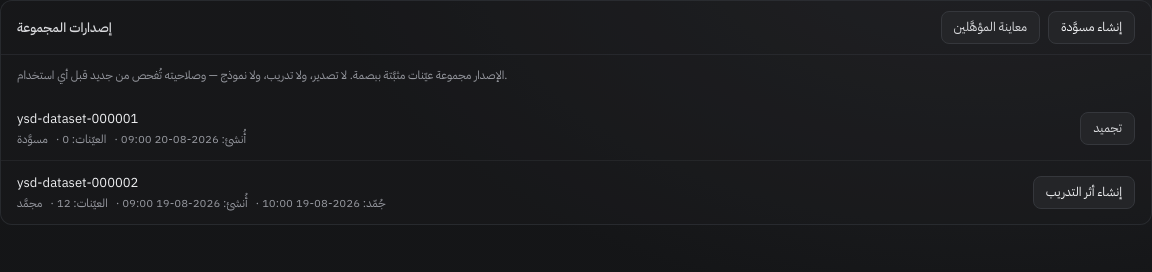
Test: ★ (٢) المعاينة — أعدادٌ وأسبابٌ مجمَّعة › ★ ★ تعرض المؤهَّل والمستبعَد بسببه
Click the button "معاينة المؤهَّلين" at (990, 27), box top-left (940, 11), bottom-right (1040, 44)
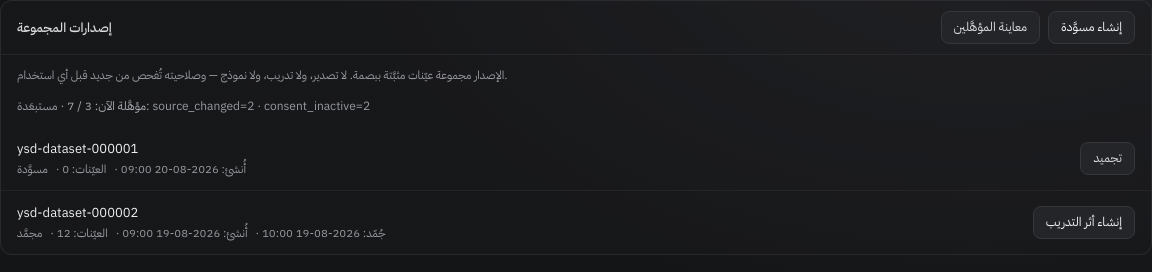
Now the text "3" is shown, box top-left (85, 97), bottom-right (92, 115)
Now the text "source_changed=2" is shown, box top-left (152, 97), bottom-right (370, 115)
Now the text "consent_inactive=2" is shown, box top-left (152, 97), bottom-right (370, 115)
